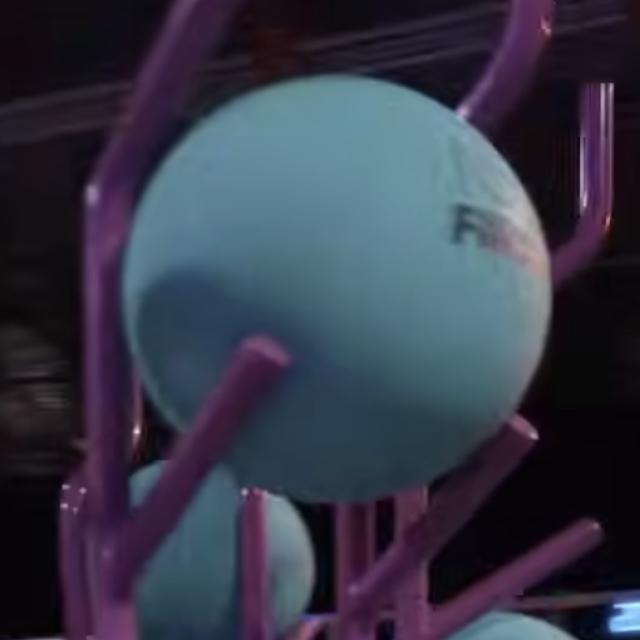Algae: (122, 76, 554, 504), (128, 458, 314, 640), (420, 611, 575, 638)
Reef: (110, 335, 288, 586), (356, 415, 541, 610), (427, 519, 605, 637), (580, 80, 614, 246)
